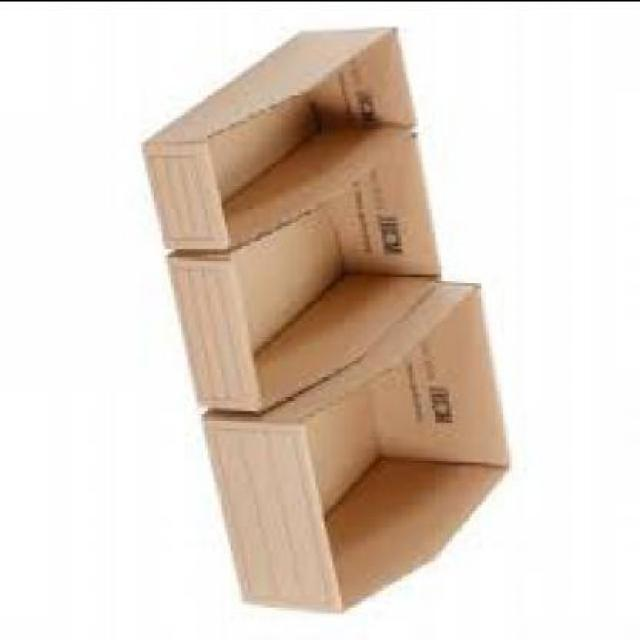box: (157, 206, 540, 622), (105, 8, 462, 262)
